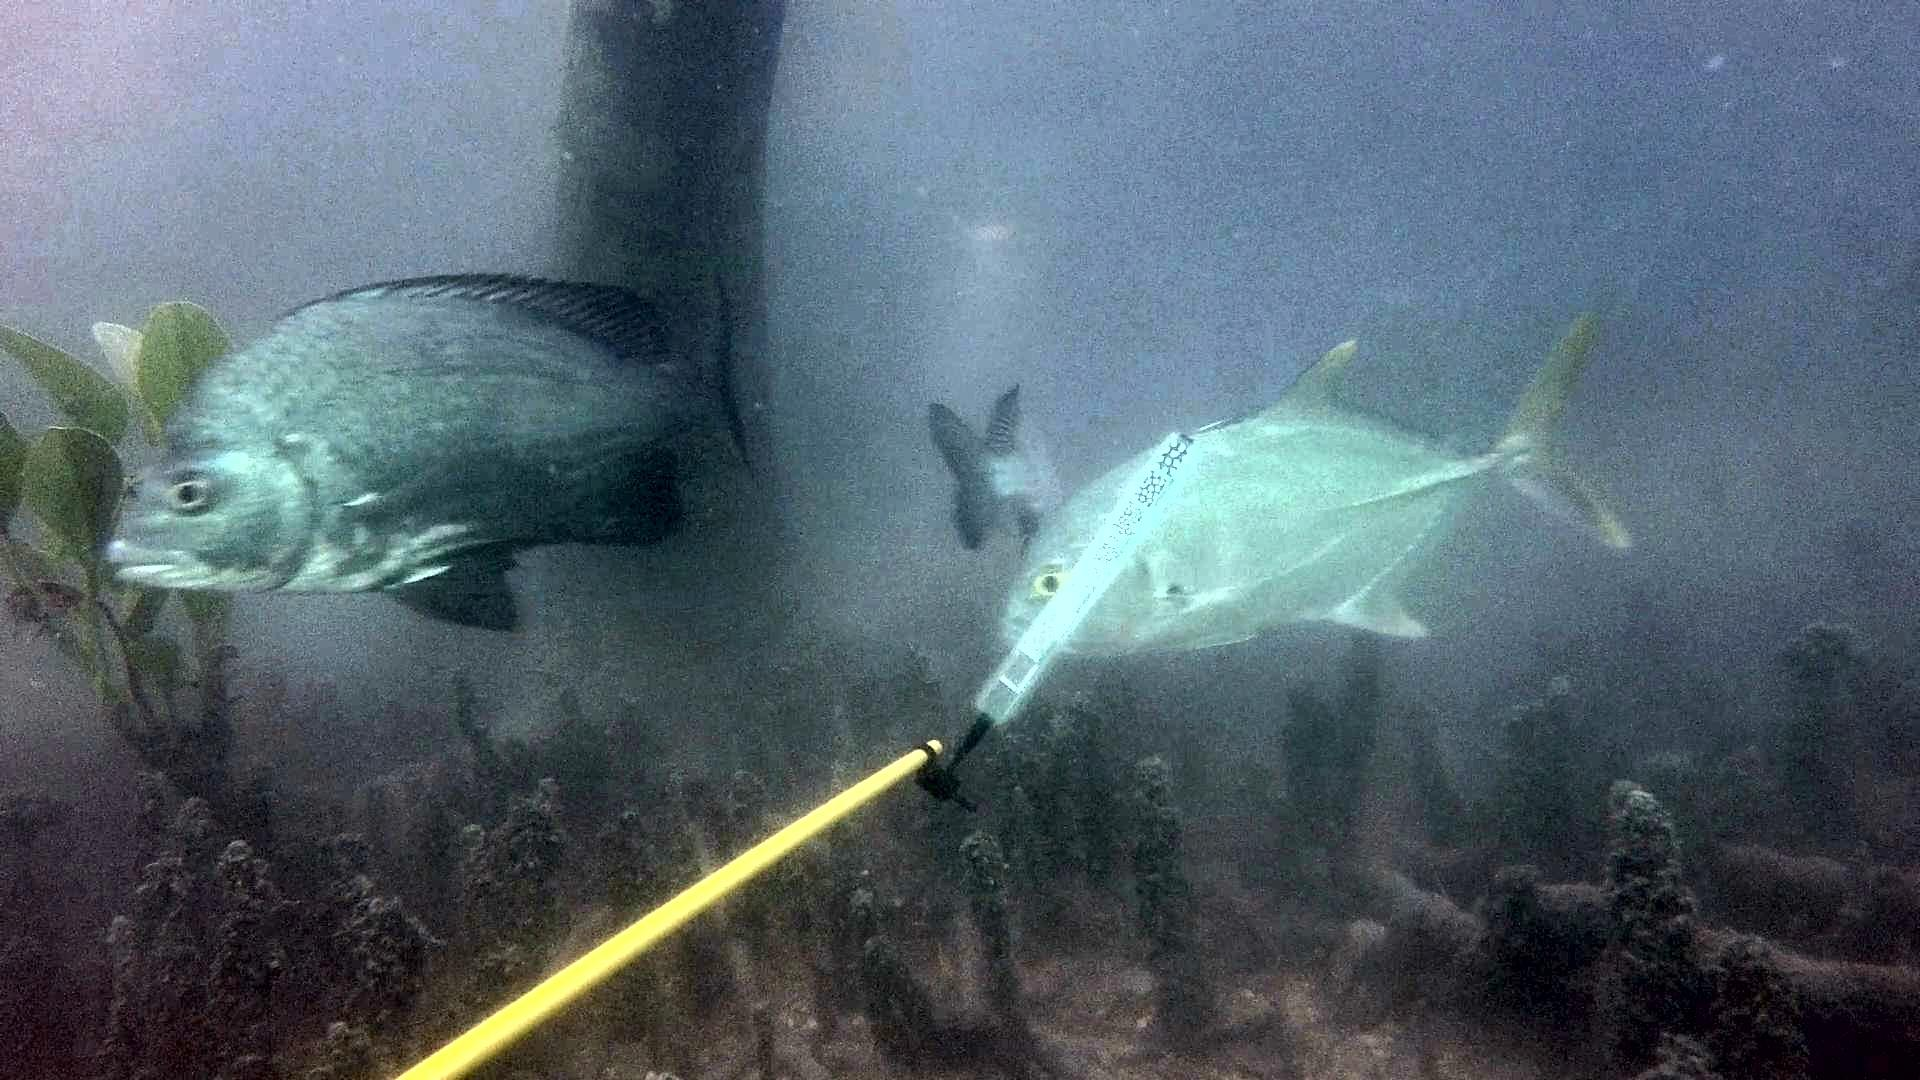acanthopagrus palmaris: (75, 261, 781, 647), (913, 368, 1068, 559)
caranx: (993, 293, 1643, 676)
